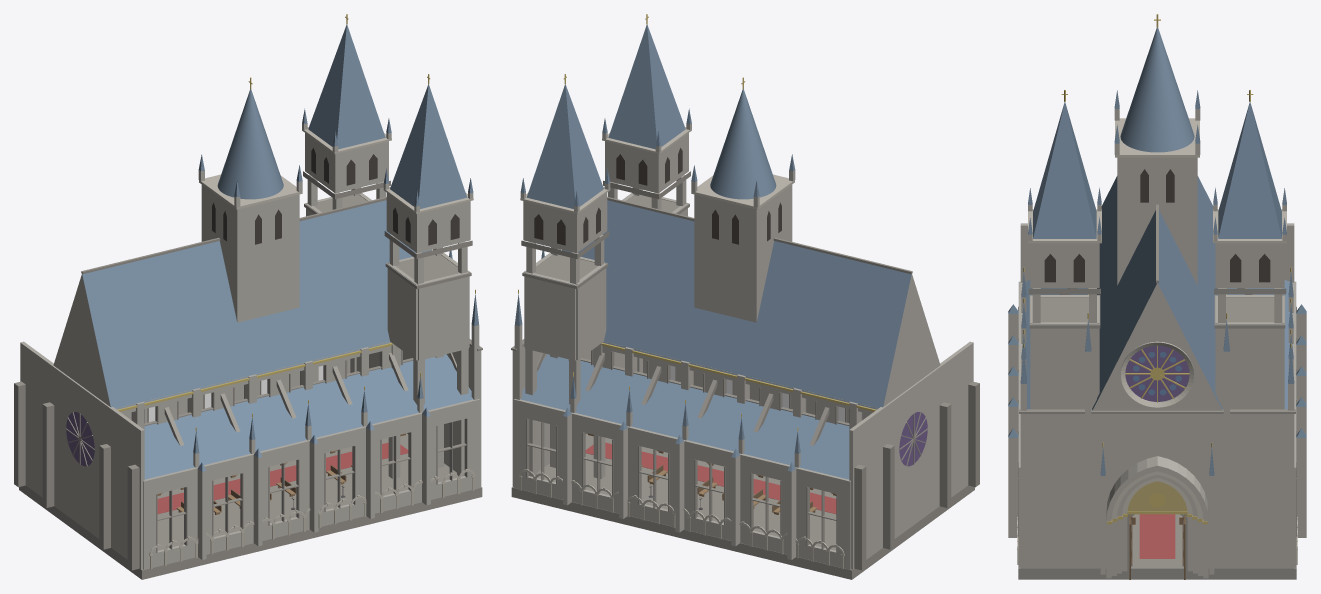
3 views of the same model, side by side, from view 1: azimuth 30°, elevation 25°; view 2: azimuth 150°, elevation 25°; view 3: azimuth 270°, elevation 25° (orthographic). The views are drawn at different scales.
Parts seen in each view (by area): view 1: C01_visible; view 2: C01_visible; view 3: C01_visible.
Part boxes in pixels (x1,y1,x2,y2): C01_visible: (14, 14, 482, 579); C01_visible: (511, 14, 979, 579); C01_visible: (1008, 14, 1306, 579).
Bounding box in the file's own units: 61.03 × 65.9 × 37.86.
